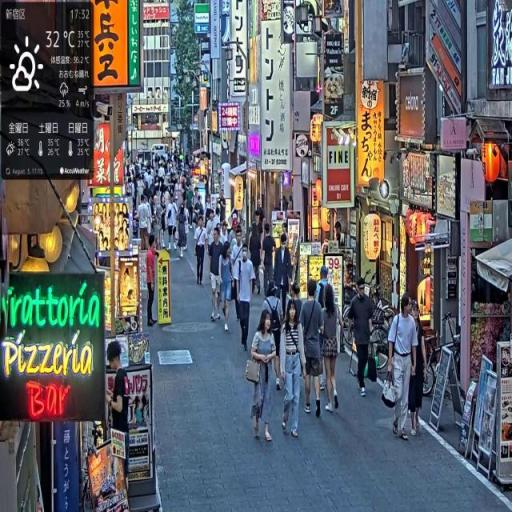person: (386, 293, 419, 445), (249, 311, 282, 447), (300, 279, 328, 420), (281, 299, 307, 442), (348, 275, 376, 400), (320, 276, 343, 414), (408, 300, 429, 440), (261, 279, 286, 389), (234, 244, 255, 353), (208, 226, 227, 324), (146, 235, 159, 330), (195, 215, 209, 289), (177, 198, 191, 257)
